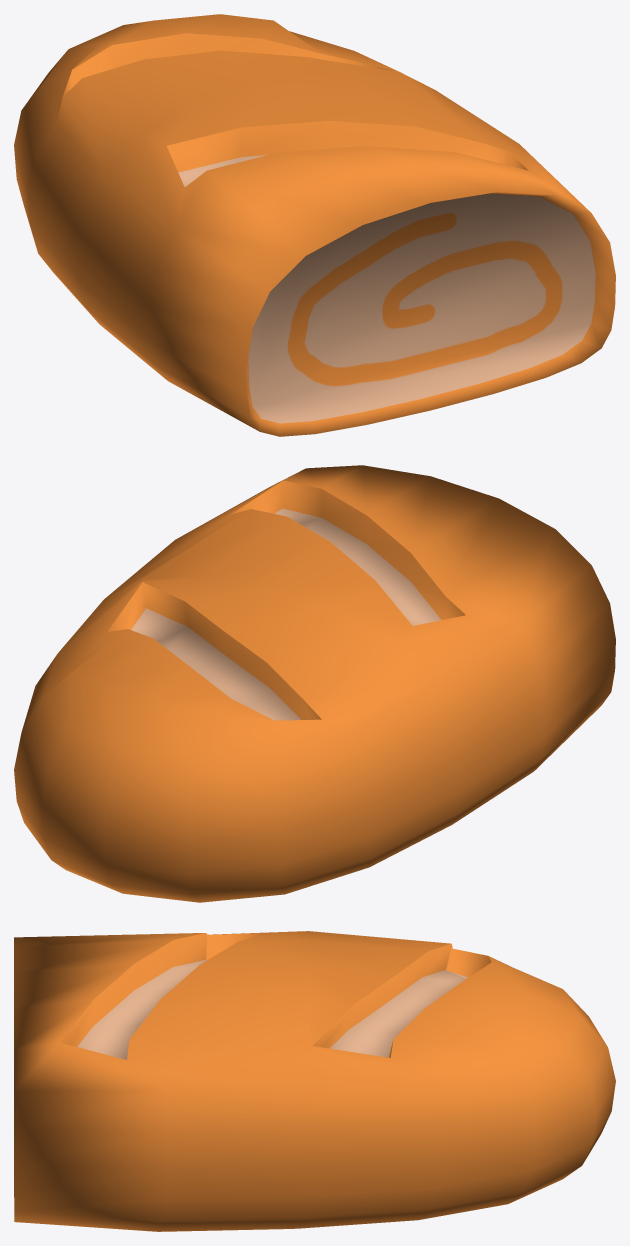
The model's file is half baguette fixed.fbx.
3 renders of one model, top to bottom at view 1: azimuth 30°, elevation 25°; view 2: azimuth 150°, elevation 25°; view 3: azimuth 270°, elevation 25°, orthographic. The views are drawn at different scales.
Visible parts, largest first — view 1: half baguette; view 2: half baguette; view 3: half baguette.
Part boxes in pixels (x1,y1,x2,y2): half baguette: (14,14,615,436); half baguette: (14,465,615,902); half baguette: (14,931,615,1231).
Bounding box in the file's own units: 4.28 × 2.3 × 6.12.
2 materials, 1 textured.
